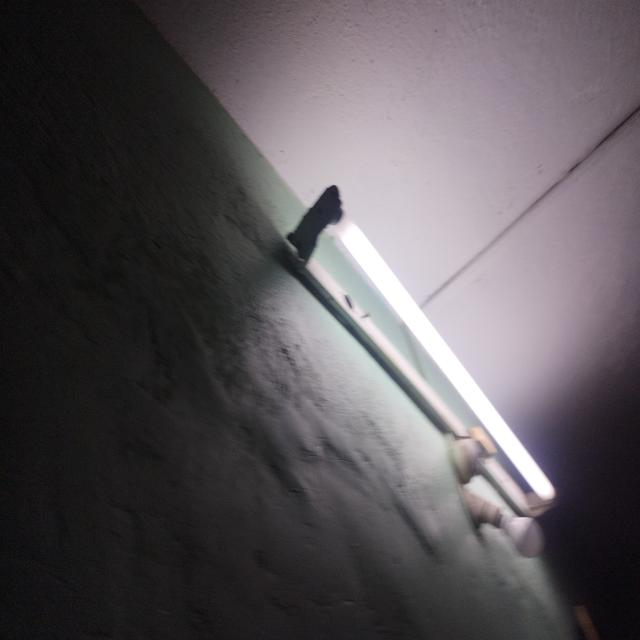tubelight_on: (281, 181, 562, 530)
